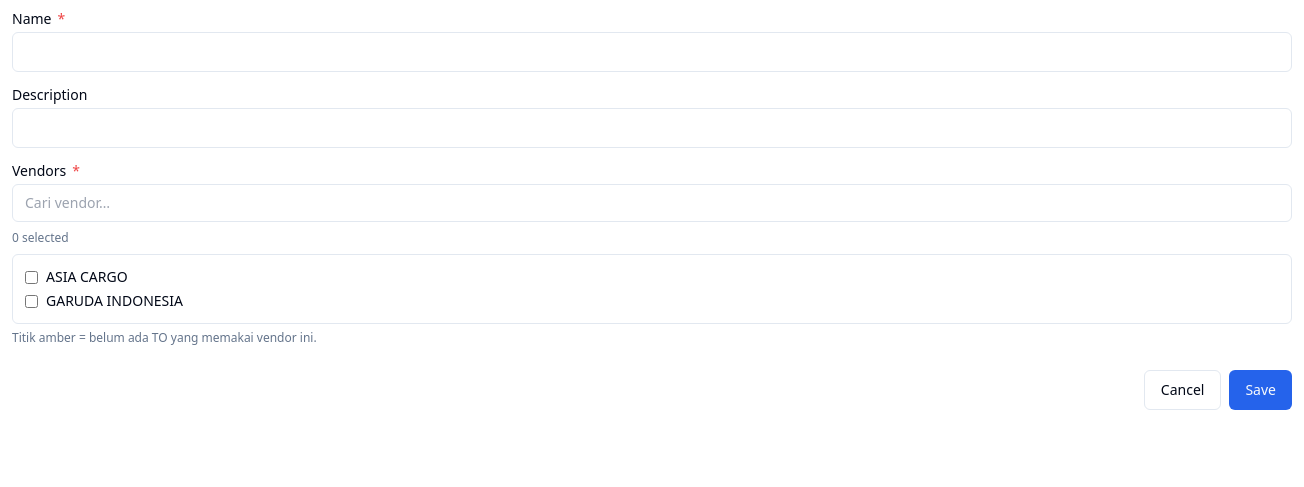
Test: rejects submission when the name is blank
Click the checkbox labelled "GARUDA INDONESIA".
click(32, 301)  # box 25,294 -> 38,308
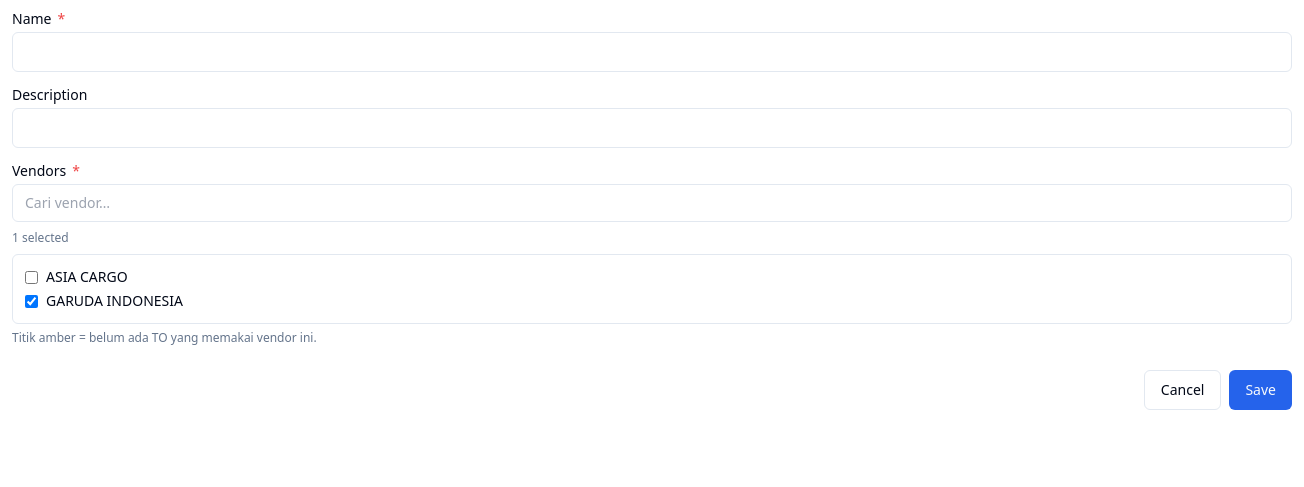
Click the button "Save".
click(1261, 390)  # box 1229,370 -> 1292,410
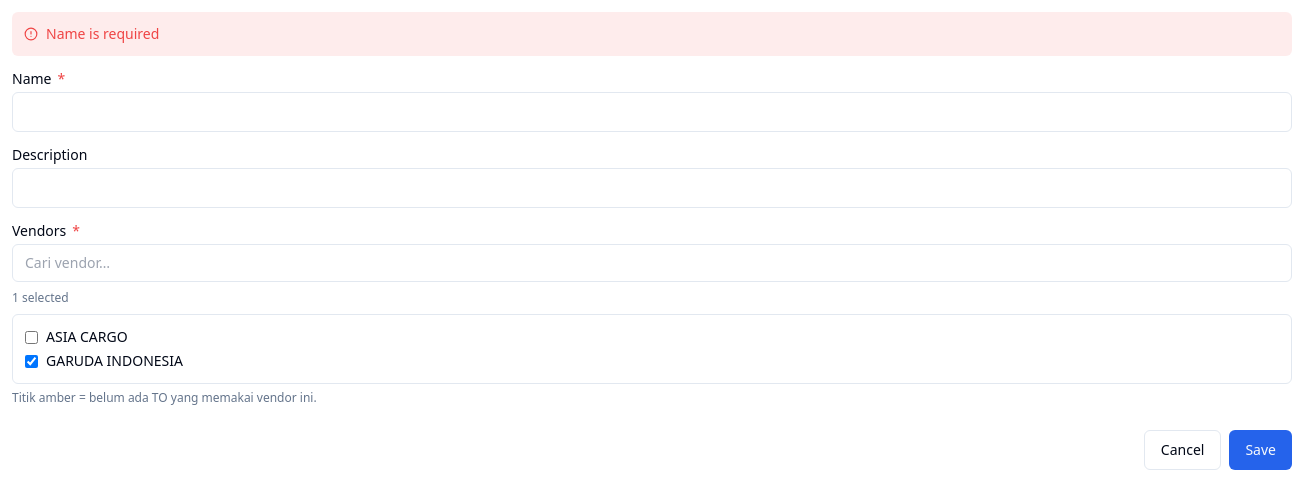
Now the text "Name is required" is shown, box 12,12 -> 1292,56
